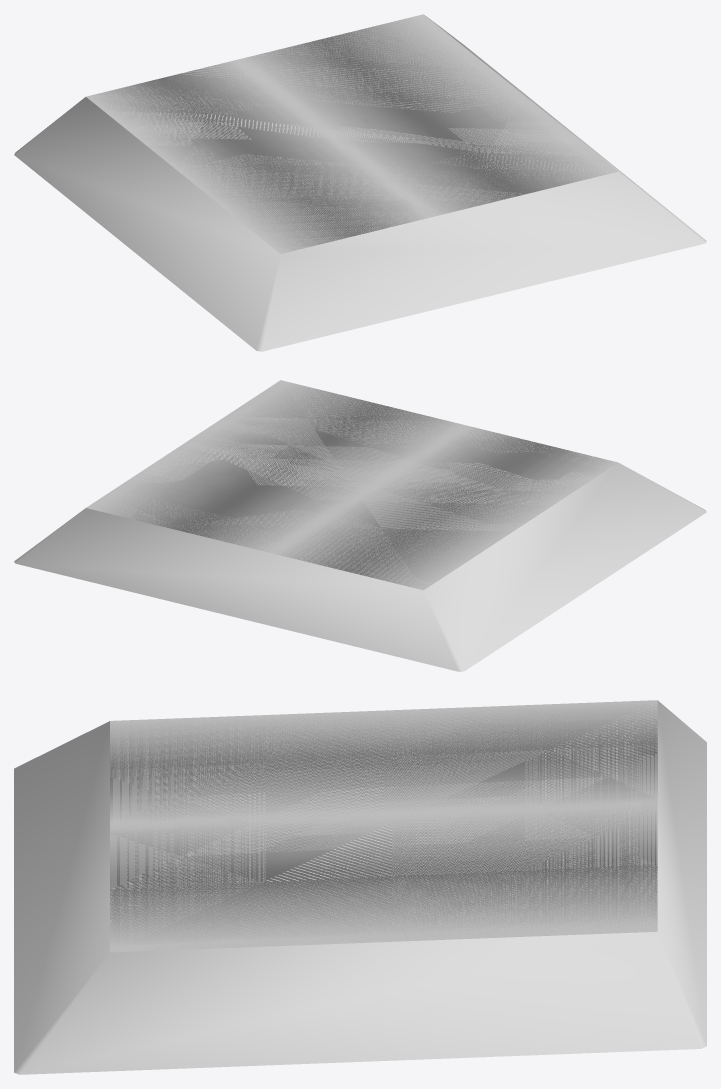
The model's file is original-12.obj.
The picture shows the model from 3 angles, top to bottom: view 1: azimuth 30°, elevation 25°; view 2: azimuth 150°, elevation 25°; view 3: azimuth 270°, elevation 25°; orthographic projection. The views are drawn at different scales.
Visible parts, largest first — view 1: Group12/mesh10/mesh10-geometry#mesh10-geometry; view 2: Group12/mesh10/mesh10-geometry#mesh10-geometry; view 3: Group12/mesh10/mesh10-geometry#mesh10-geometry.
Boxes of the visible parts, bbox=[...] form: Group12/mesh10/mesh10-geometry#mesh10-geometry: bbox=[14, 14, 706, 351]; Group12/mesh10/mesh10-geometry#mesh10-geometry: bbox=[14, 380, 706, 671]; Group12/mesh10/mesh10-geometry#mesh10-geometry: bbox=[14, 700, 706, 1074].
Size of the model in its own units: 0.0754 by 0.0119 by 0.0715.
